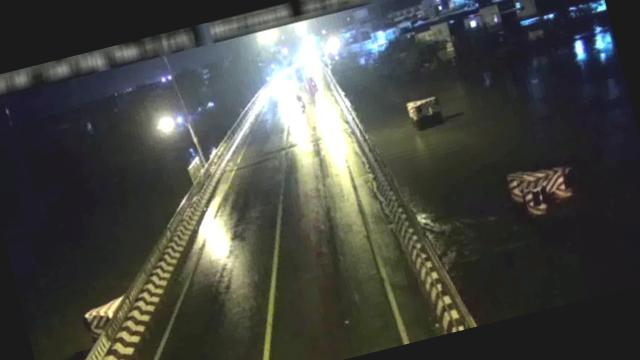Bike: (292, 90, 308, 112), (307, 73, 318, 93)
